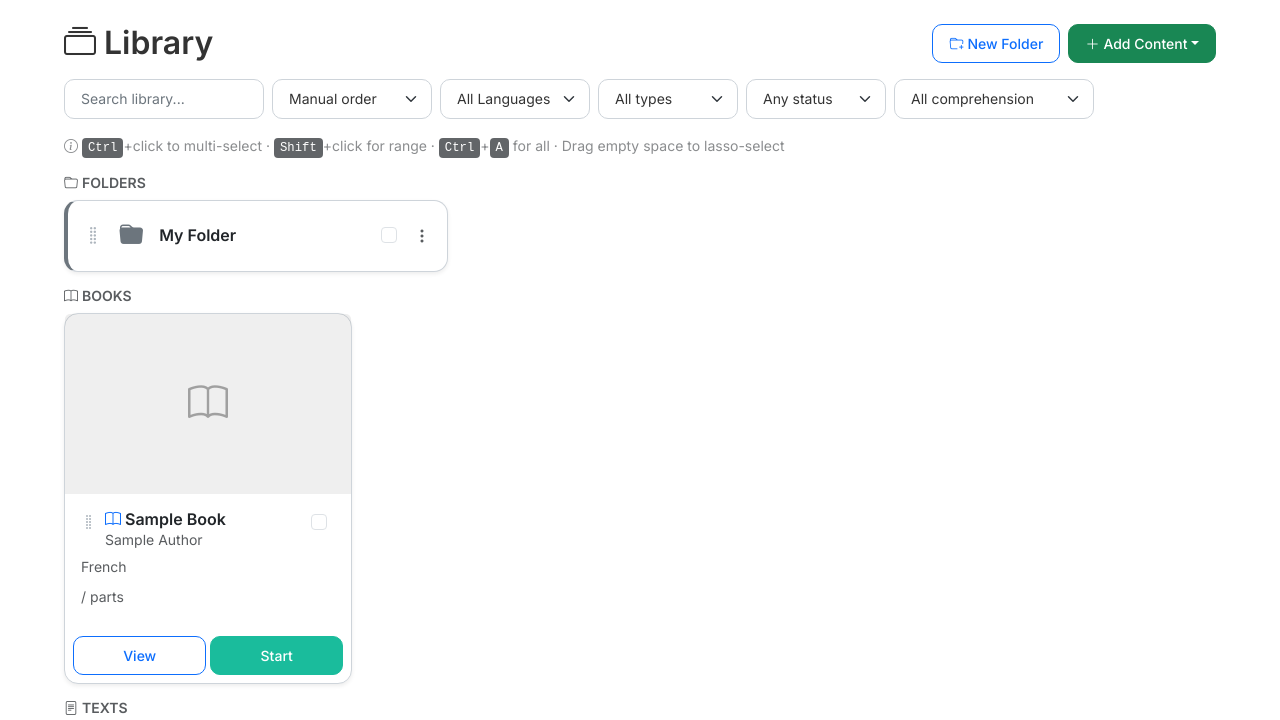
Test: Library › search, sort and type › the sort choice is remembered
This screenshot has width=1280, height=720.
Expected: the heading "Sample Book" is shown, [105,509,226,529]
Select "Title (A–Z)" in the dropdown named "Sort" at {"x": 352, "y": 99}, box [272,79,432,119]
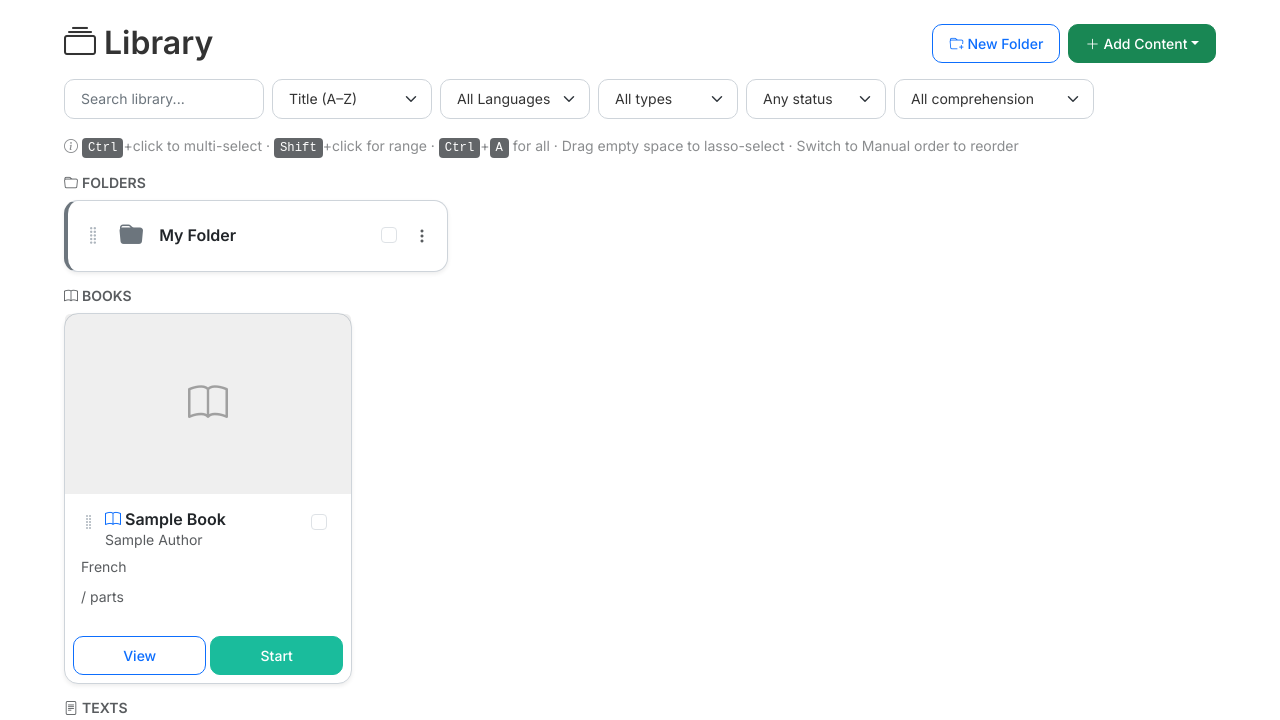
Result: the text "Switch to Manual order to reorder" is shown at [785,137,1019,154]
